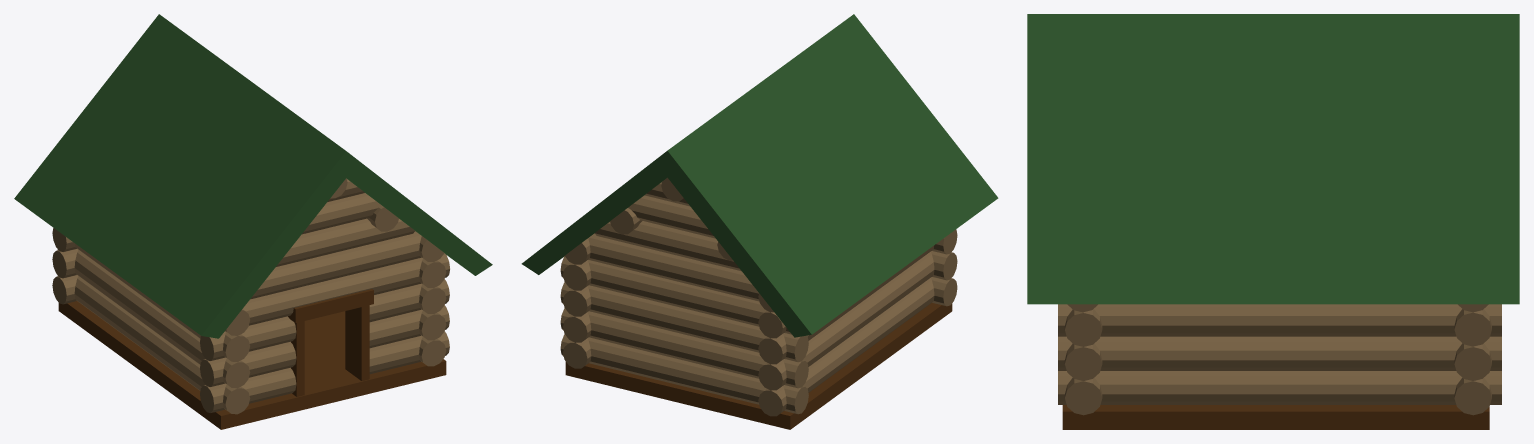
The model's file is Safe_Space.fbx.
The picture shows the model from 3 angles, left to right: view 1: azimuth 30°, elevation 25°; view 2: azimuth 150°, elevation 25°; view 3: azimuth 270°, elevation 25°; orthographic projection. The views are drawn at different scales.
Visible parts, largest first — view 1: Safe_Space; view 2: Safe_Space; view 3: Safe_Space.
Boxes of the visible parts, x1=… form: Safe_Space: x1=14, y1=14, x2=492, y2=429; Safe_Space: x1=521, y1=14, x2=998, y2=429; Safe_Space: x1=1027, y1=14, x2=1519, y2=429.
Bounding box in the file's own units: 1355 × 1160 × 1508.
